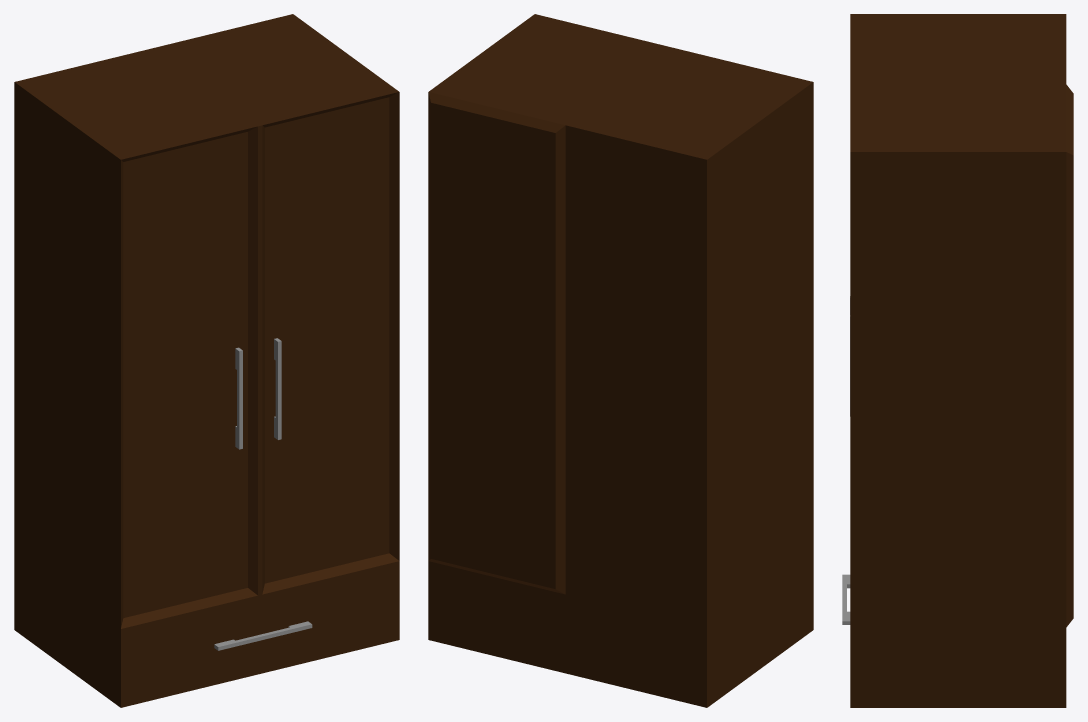
The model's file is ArmarioCasa.FBX.
3 renders of one model, left to right at view 1: azimuth 30°, elevation 25°; view 2: azimuth 150°, elevation 25°; view 3: azimuth 270°, elevation 25°, orthographic.
Visible parts, largest first — view 1: ArmarioCasa; view 2: ArmarioCasa; view 3: ArmarioCasa.
Boxes of the visible parts, x1,y1,x2,y2 form: ArmarioCasa: (14,14,399,707); ArmarioCasa: (428,14,813,707); ArmarioCasa: (842,14,1073,707).
Size of the model in its own units: 4 by 7.52 by 2.84.
